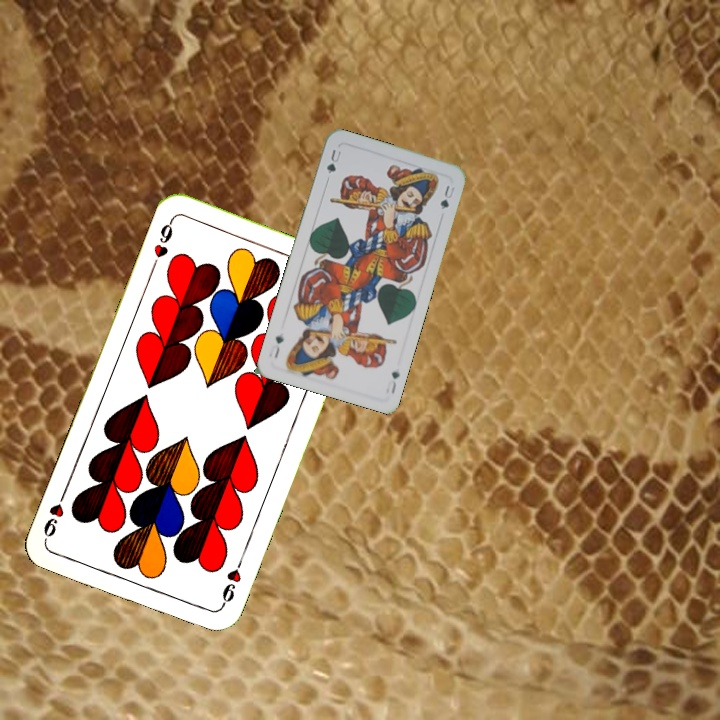GU: (322, 145, 344, 176), (382, 367, 402, 397)
H9: (216, 554, 246, 611), (148, 215, 176, 272)
